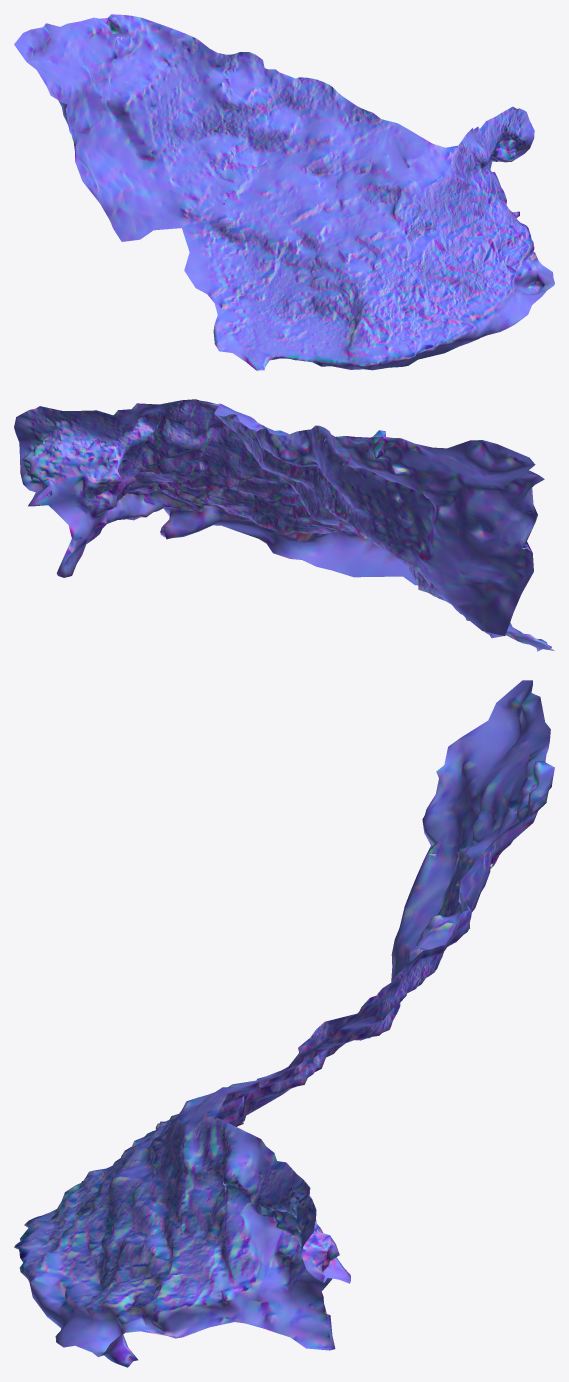
File: RockFormation002 Moss Variant.fbx
The picture shows the model from 3 angles, top to bottom: view 1: azimuth 30°, elevation 25°; view 2: azimuth 150°, elevation 25°; view 3: azimuth 270°, elevation 25°; orthographic projection. The views are drawn at different scales.
Parts seen in each view (by area): view 1: RockFormation02_LOD0; view 2: RockFormation02_LOD0; view 3: RockFormation02_LOD0.
Part boxes in pixels (x1,y1,x2,y2): RockFormation02_LOD0: [14, 14, 554, 370]; RockFormation02_LOD0: [14, 399, 554, 651]; RockFormation02_LOD0: [14, 680, 554, 1367].
Bounding box in the file's own units: 4994 × 2914 × 3350.
